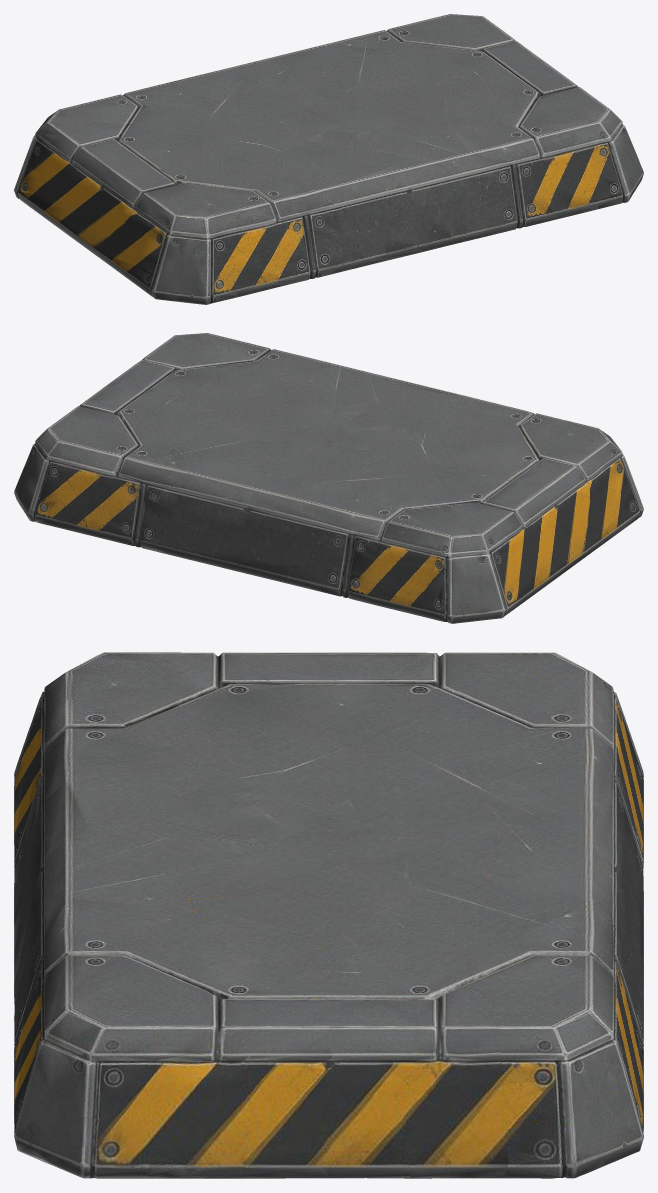
File: arena_bumper.glb
The picture shows the model from 3 angles, top to bottom: view 1: azimuth 30°, elevation 25°; view 2: azimuth 150°, elevation 25°; view 3: azimuth 270°, elevation 25°; orthographic projection. The views are drawn at different scales.
Parts seen in each view (by area): view 1: mesh_node; view 2: mesh_node; view 3: mesh_node.
Part boxes in pixels (x1=…): mesh_node: x1=14, y1=14, x2=643, y2=304; mesh_node: x1=14, y1=333, x2=643, y2=623; mesh_node: x1=14, y1=652, x2=643, y2=1178.
Size of the model in its own units: 1.9 by 0.282 by 1.2.
1 material, 1 textured.
